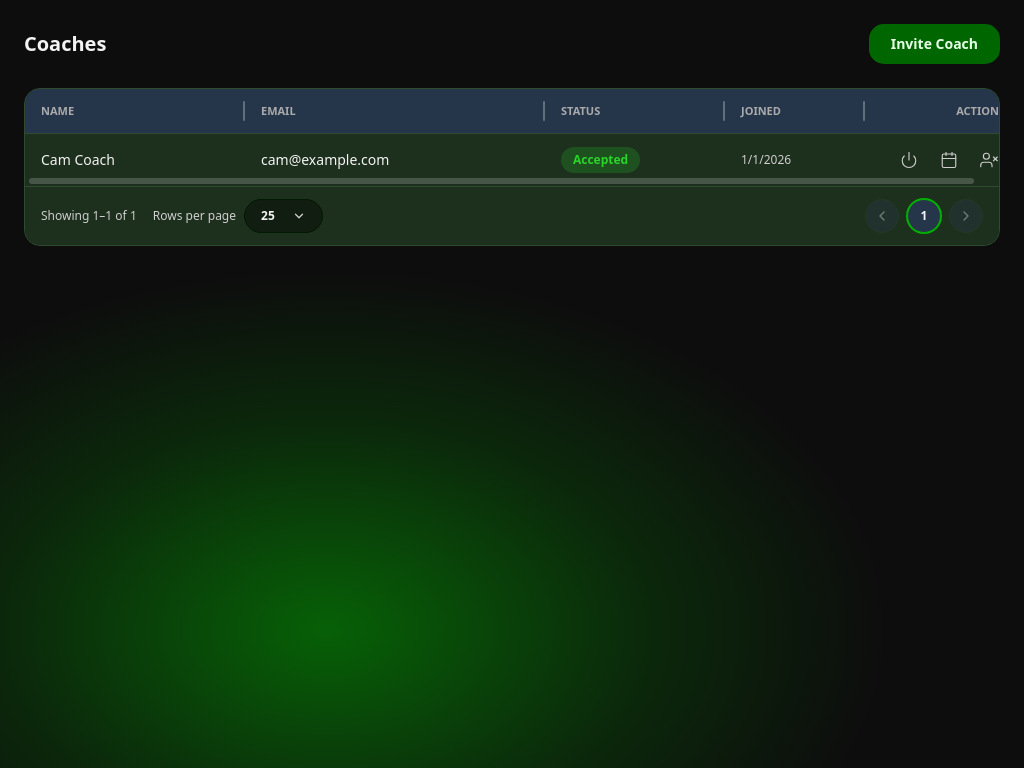
CoachesPage › opens the Assign / availability-check modal from the calendar icon action
The width and height of the screenshot is (1024, 768).
Expected: the row "Cam Coach cam@example.com Accepted 1/1/2026" is shown, [25,134,999,186]
Click the button named "check availability / assign cam coach to session": (949, 160) [933,144,965,176]
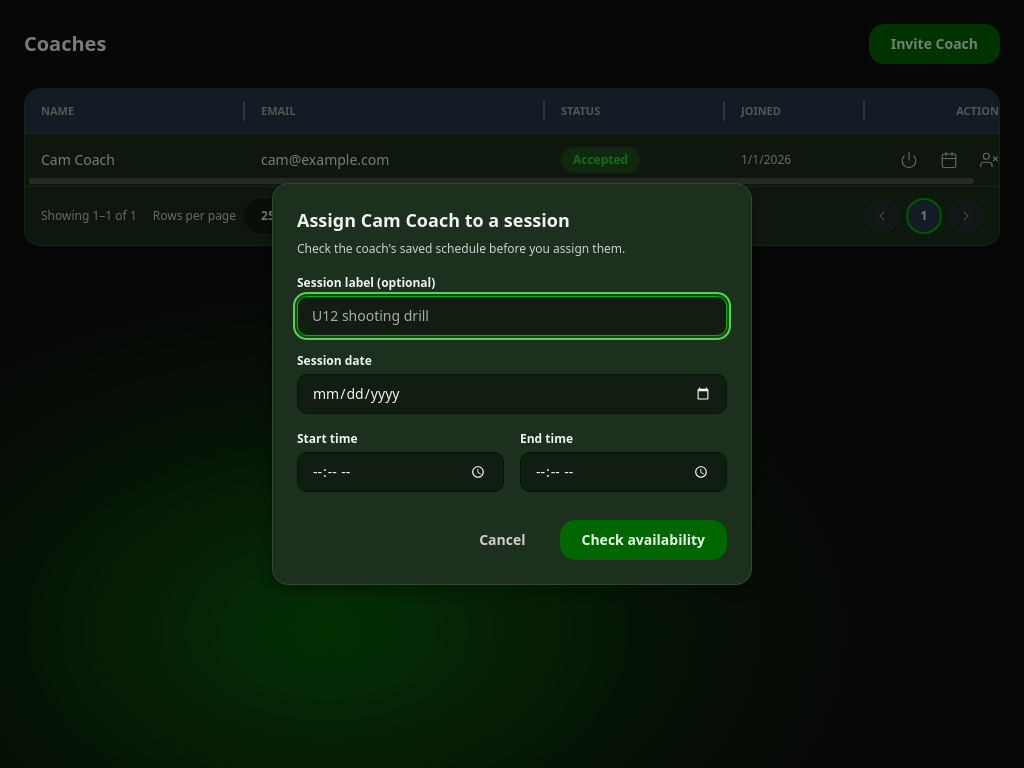
Now the dialog "Assign Cam Coach to a session" is shown, box [272,183,752,585]
